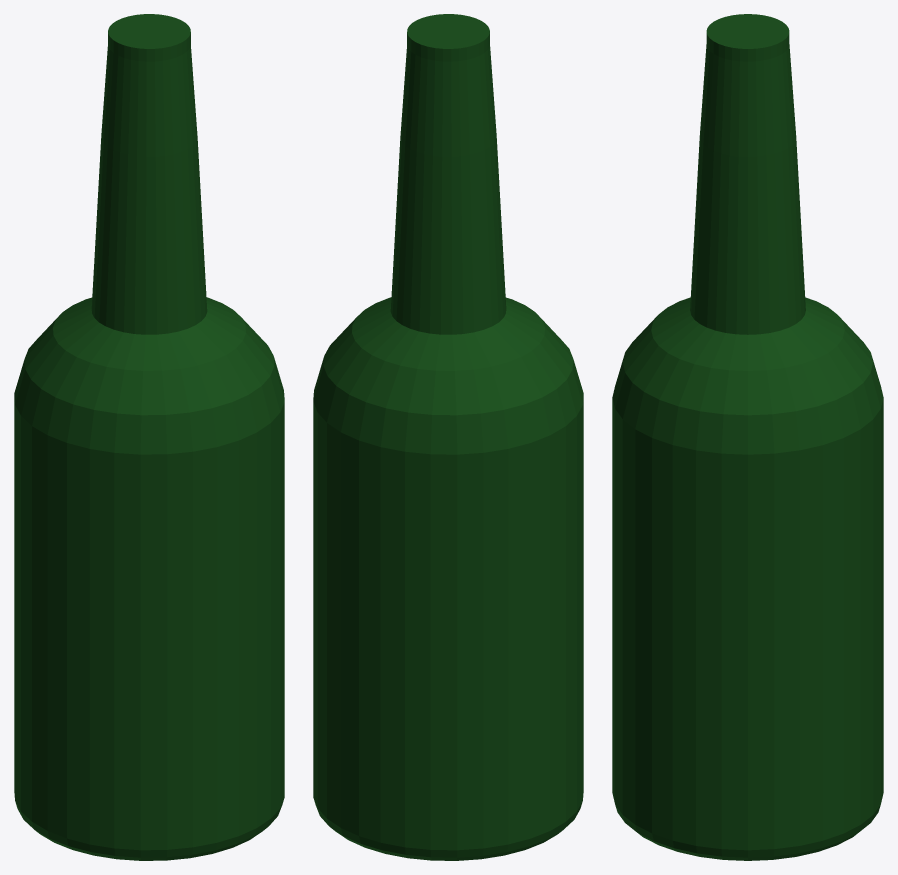
The model's file is Garrafa.fbx.
3 renders of one model, left to right at view 1: azimuth 30°, elevation 25°; view 2: azimuth 150°, elevation 25°; view 3: azimuth 270°, elevation 25°, orthographic.
Visible parts, largest first — view 1: Cilindro; view 2: Cilindro; view 3: Cilindro.
Boxes of the visible parts, x1=… form: Cilindro: x1=14, y1=14, x2=284, y2=860; Cilindro: x1=313, y1=14, x2=583, y2=860; Cilindro: x1=612, y1=14, x2=883, y2=860.
Size of the model in its own units: 200 by 634 by 200.
